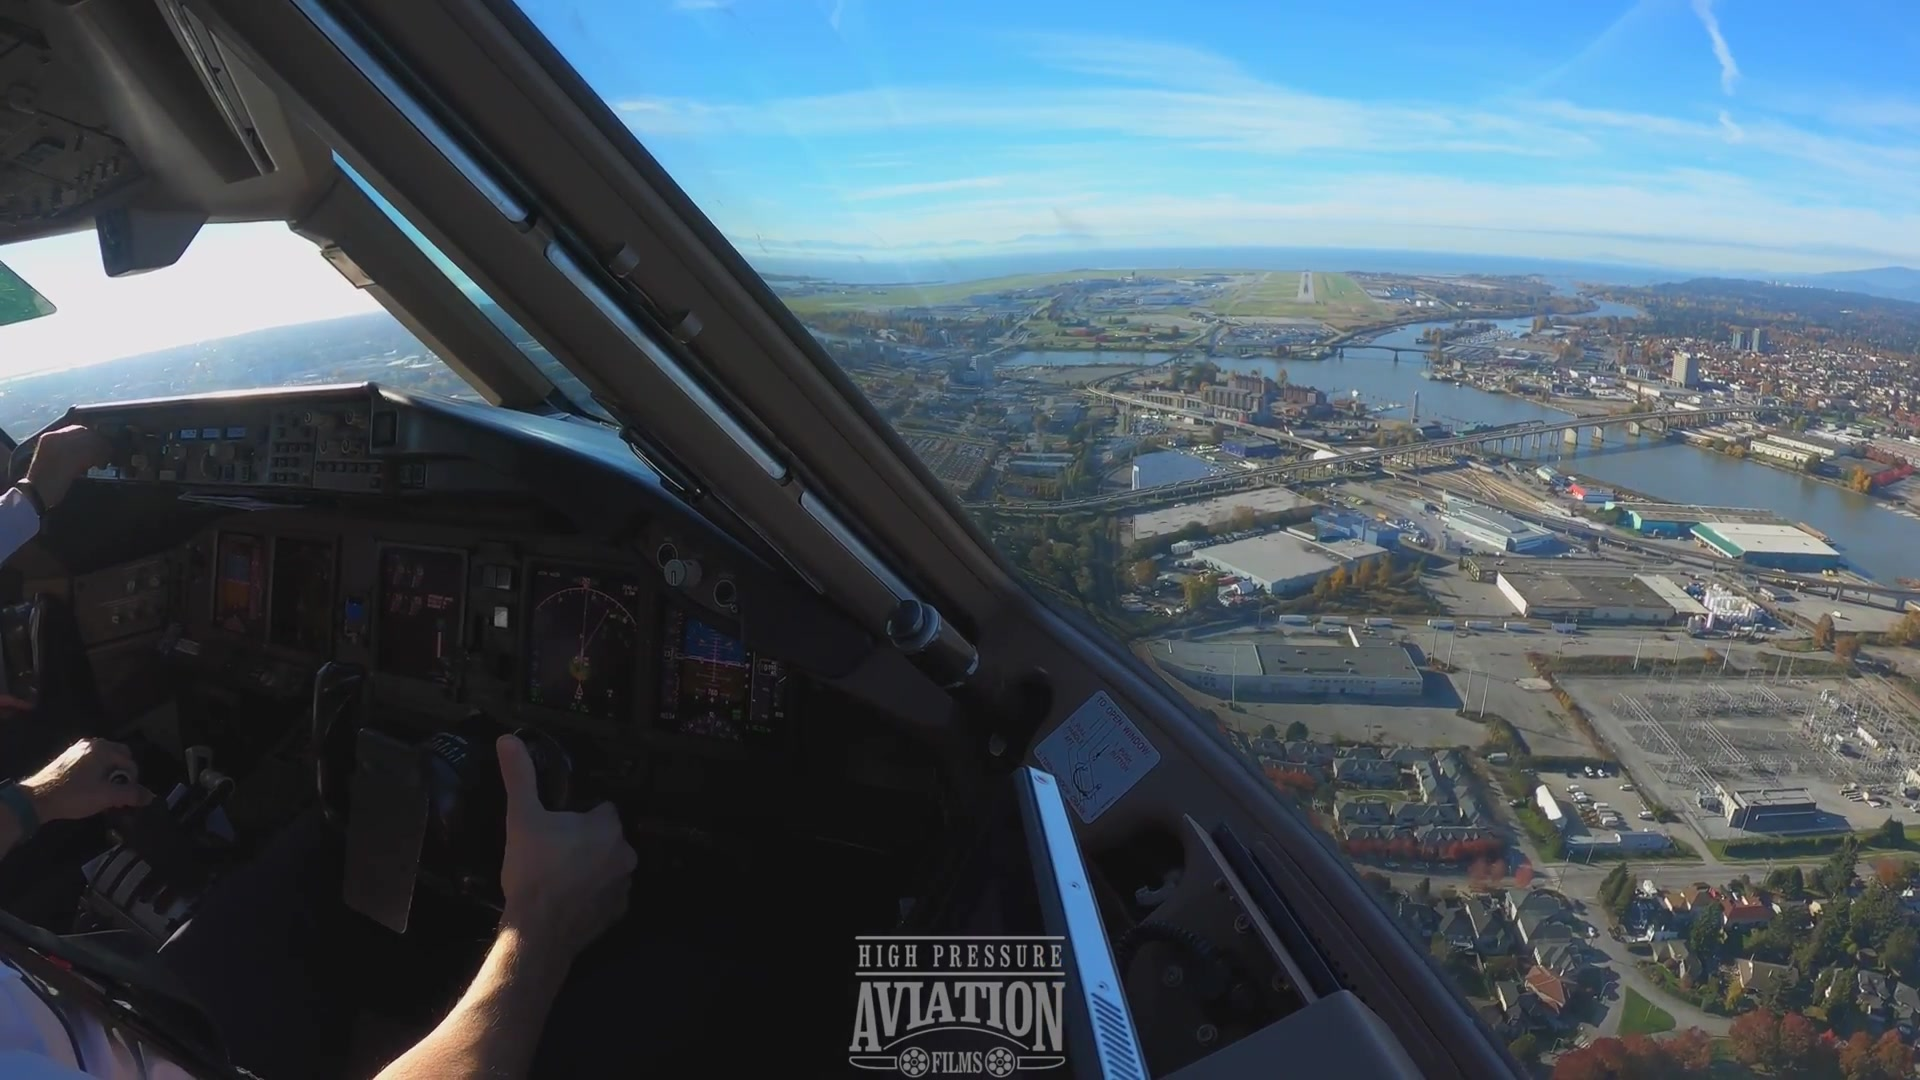runway: (1294, 270, 1316, 305)
